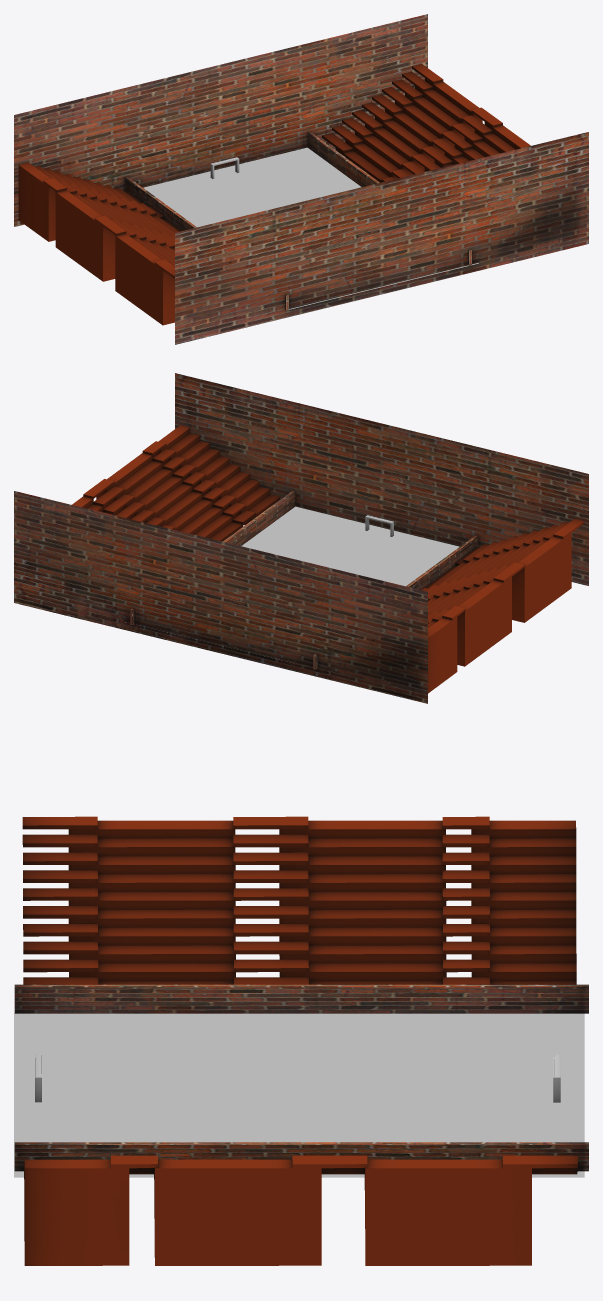
The model's file is estadio.obj.
The picture shows the model from 3 angles, top to bottom: view 1: azimuth 30°, elevation 25°; view 2: azimuth 150°, elevation 25°; view 3: azimuth 270°, elevation 25°; orthographic projection. The views are drawn at different scales.
Visible parts, largest first — view 1: Object002, Plane003, Object001, Object003; view 2: Object002, Plane003, Object001, Object003; view 3: Plane003, Object001, Object003.
Part boxes in pixels (<box>): Object002: <box>14,14,588,344</box>; Plane003: <box>18,64,530,325</box>; Object001: <box>143,147,478,309</box>; Object003: <box>124,131,471,310</box>; Object002: <box>14,373,588,703</box>; Plane003: <box>72,425,584,693</box>; Object001: <box>125,506,459,666</box>; Object003: <box>130,490,478,669</box>; Plane003: <box>22,816,577,1265</box>; Object001: <box>14,1013,584,1177</box>; Object003: <box>14,984,588,1171</box>.
Bounding box in the file's own units: 158 × 40.87 × 108.
